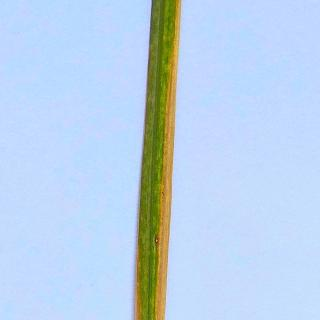Blast: (149, 232, 164, 250)
